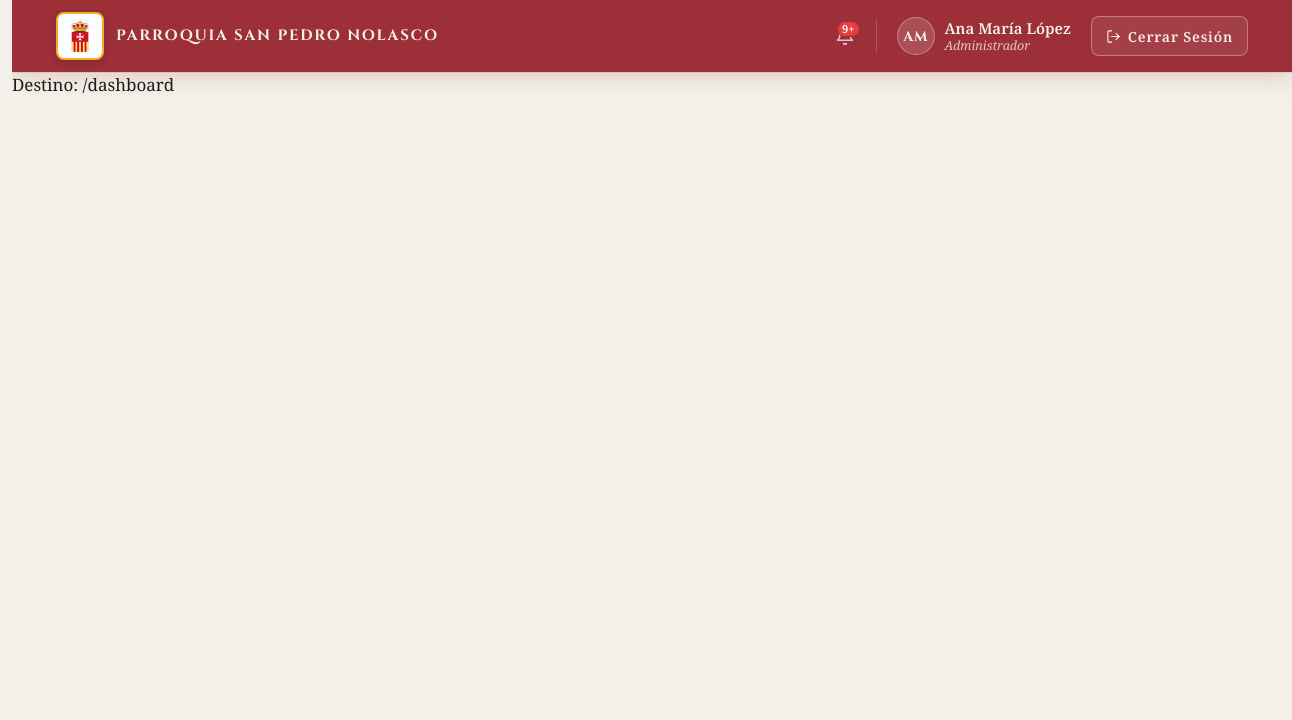
Test: layout integrado con sesión y notificaciones › muestra máximo 9+, marca una notificación y navega al detalle
The width and height of the screenshot is (1292, 720).
Click the button titled "Notificaciones" at coordinates (844, 36), box x1=826 y1=17 x2=864 y2=55
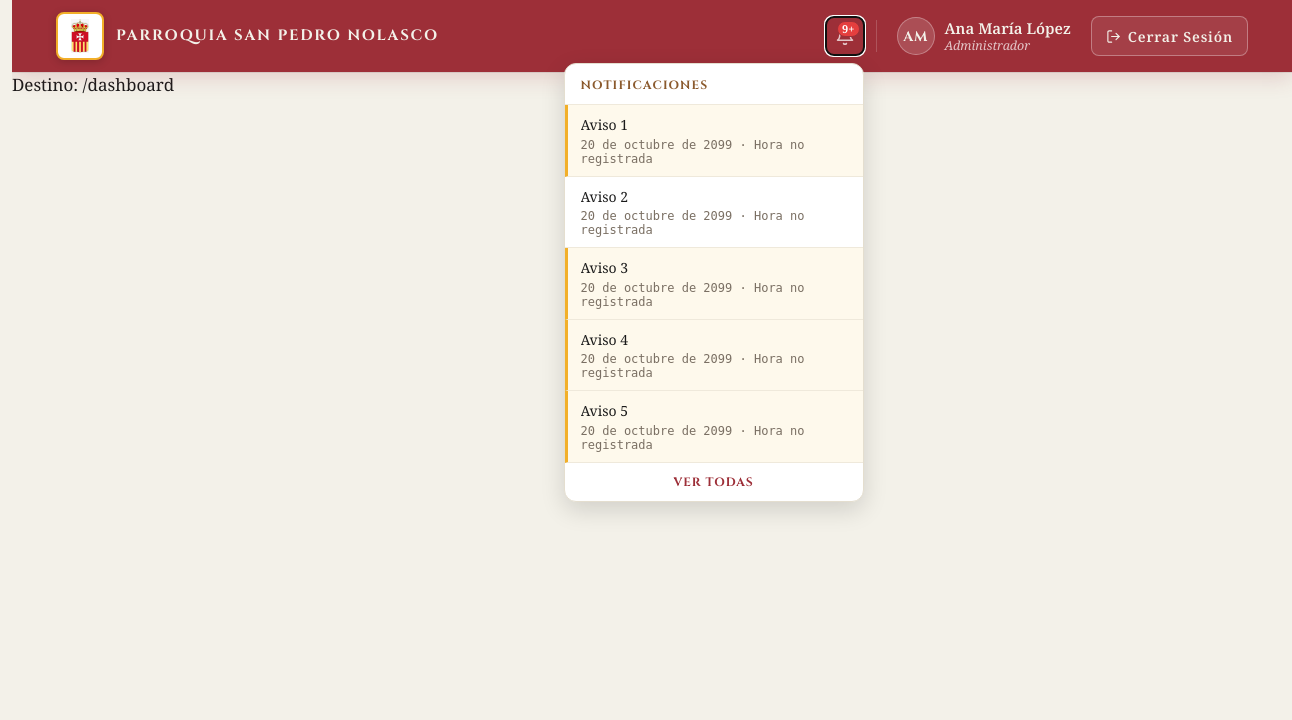
expect the text "9+" is shown: met, box x1=837 y1=21 x2=860 y2=37
Click the button "Aviso 1 20 de octubre de 2099 · Hora no registrada" at coordinates (714, 141), box x1=564 y1=105 x2=862 y2=177
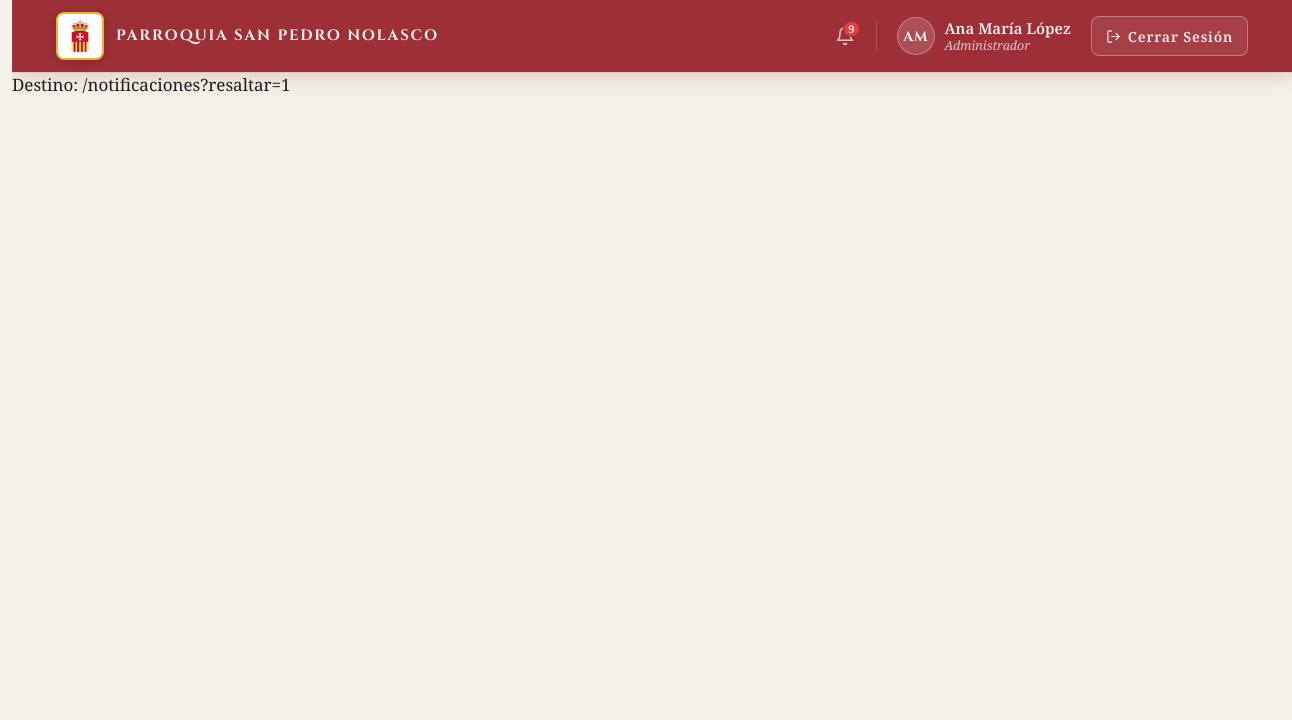
expect the text "Destino: /notificaciones?resaltar=1" is shown: met, box x1=12 y1=73 x2=290 y2=96
